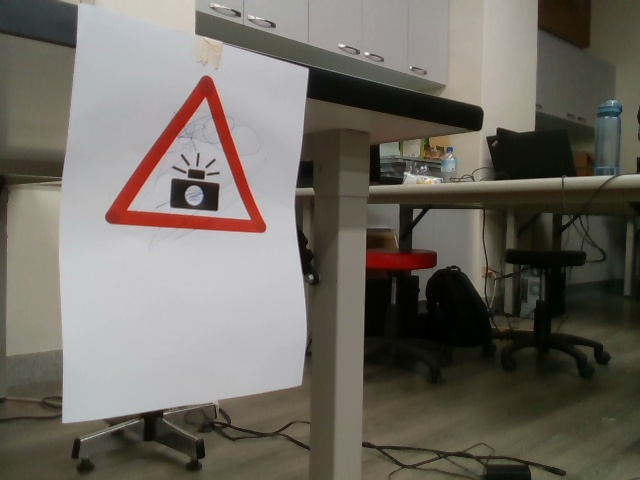camera: (103, 69, 274, 241)
